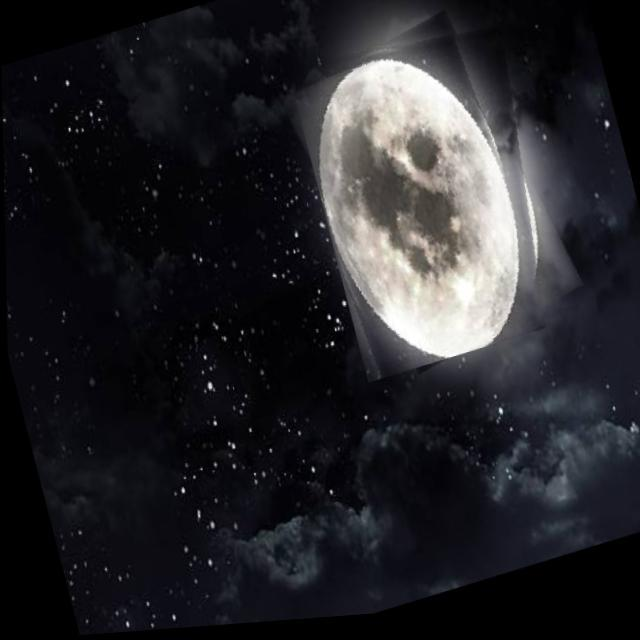moon: (286, 6, 575, 392)
